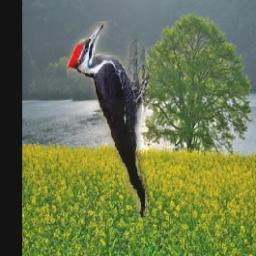Woodpecker: (66, 22, 148, 218)
